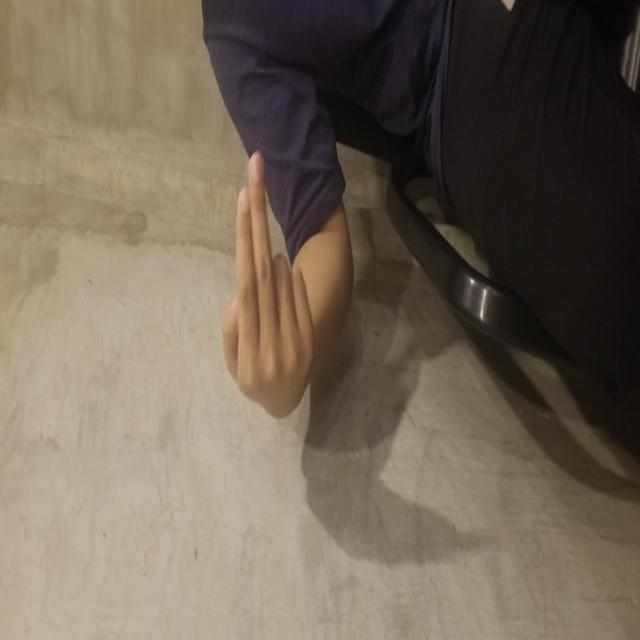H: (248, 222, 492, 314)
